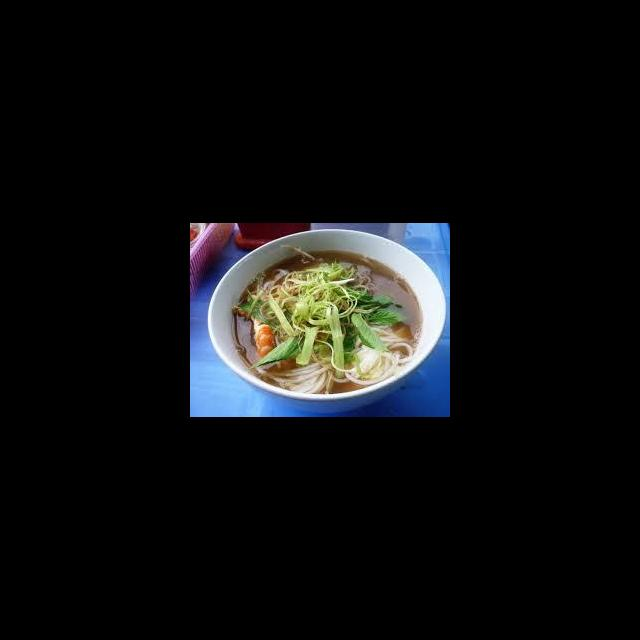bun: (252, 318, 417, 398)
tom: (247, 316, 276, 364)
